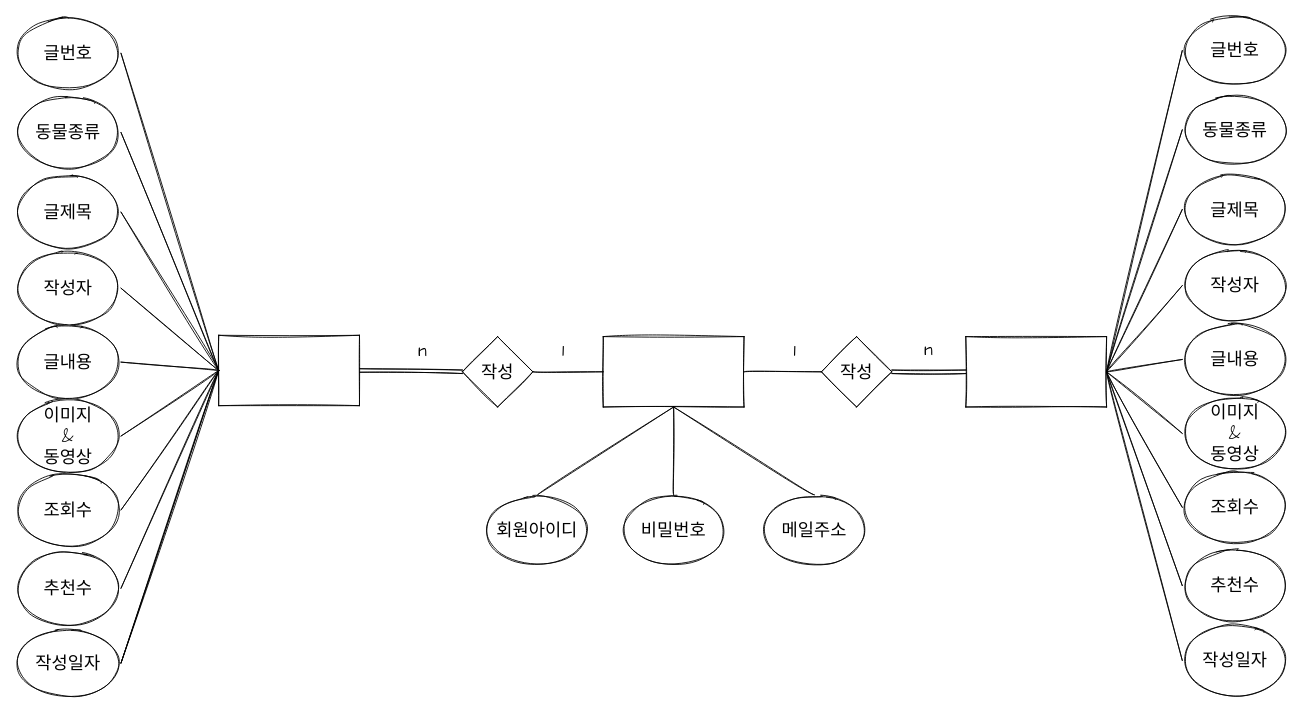
Some shapes in this 1303 by 714 pixel diagram are drawn without their labels. The box of each missing label's shape, as (x1, y1, x2, y2) in pixels:
일상 게시글: (218, 334, 359, 406)
정보 게시글: (965, 336, 1107, 407)
회원: (602, 336, 744, 407)
